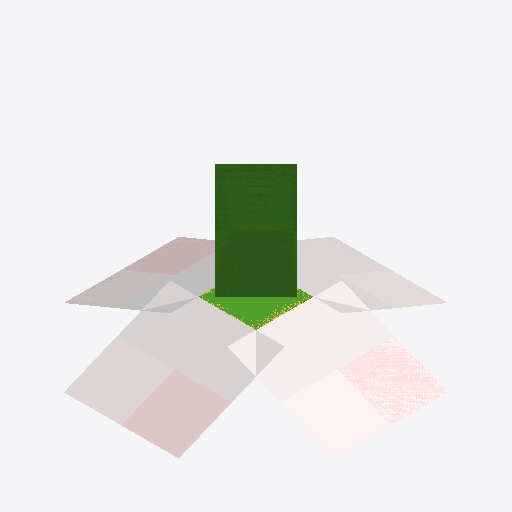
A Minecraft block model of 7 cuboids, rendered isometrically (azimuth 45°, elevation 35.3°) with the resource pack's own textures.
Visible parts, largest first — element 2, element 5, element 6, element 3, element 4, element 1.
Part boxes in pixels (bbox=[...]): element 2: bbox=[227, 281, 447, 457]; element 5: bbox=[64, 281, 284, 457]; element 6: bbox=[215, 164, 296, 296]; element 3: bbox=[297, 237, 446, 312]; element 4: bbox=[65, 237, 214, 312]; element 1: bbox=[199, 288, 312, 329].
Bounding box in the file's own units: 4.7 × 2.77 × 4.7.